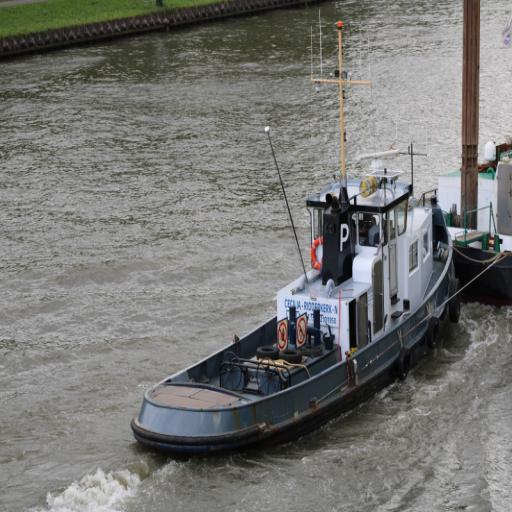tugboat: (129, 7, 468, 469)
